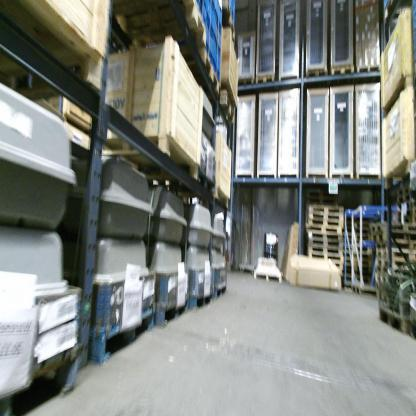pallets: (305, 194, 416, 348), (86, 281, 236, 370), (0, 344, 100, 416), (305, 63, 383, 86), (234, 72, 273, 94)
